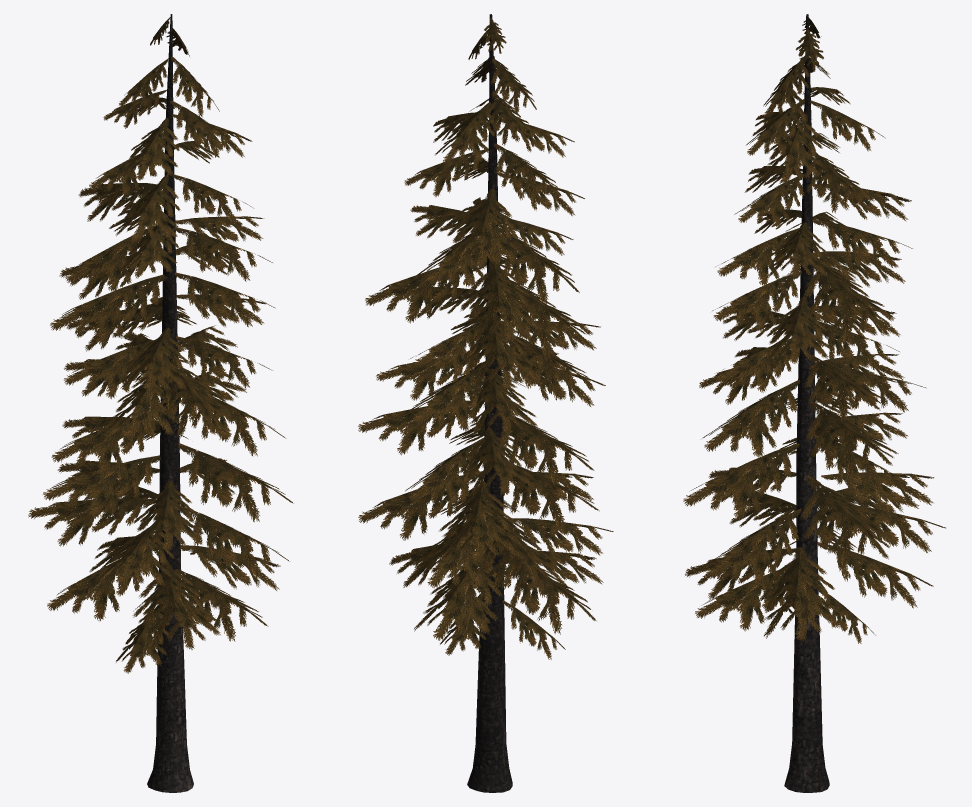
Rendered from pine_tree_n_1_1.obj.
3 renders of one model, left to right at view 1: azimuth 30°, elevation 25°; view 2: azimuth 150°, elevation 25°; view 3: azimuth 270°, elevation 25°, orthographic.
Parts seen in each view (by area): view 1: pine_tree_n_1_1_branches, pine_tree_n_1_1; view 2: pine_tree_n_1_1_branches, pine_tree_n_1_1; view 3: pine_tree_n_1_1_branches, pine_tree_n_1_1.
Part boxes in pixels (box(x1,y1,x2,y2)): pine_tree_n_1_1_branches: box(28, 17, 293, 673); pine_tree_n_1_1: box(147, 14, 193, 792); pine_tree_n_1_1_branches: box(358, 18, 613, 659); pine_tree_n_1_1: box(467, 14, 512, 792); pine_tree_n_1_1_branches: box(683, 17, 945, 643); pine_tree_n_1_1: box(784, 14, 829, 792).
Size of the model in its own units: 3.06 by 9.1 by 3.21.
